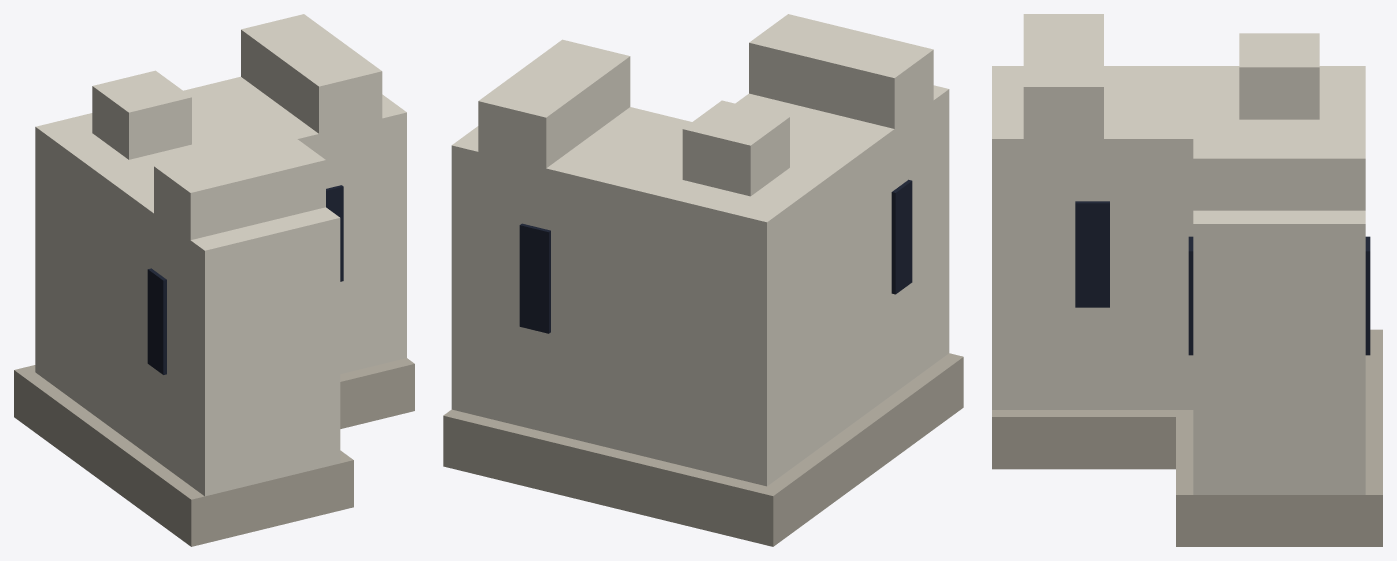
Rendered from FortifiedFence1-lvl1-Corner.fbx.
3 renders of one model, left to right at view 1: azimuth 30°, elevation 25°; view 2: azimuth 150°, elevation 25°; view 3: azimuth 270°, elevation 25°, orthographic. The views are drawn at different scales.
Visible parts, largest first — view 1: FortifiedFence1-lvl1-Corner; view 2: FortifiedFence1-lvl1-Corner; view 3: FortifiedFence1-lvl1-Corner.
Part boxes in pixels (x1,y1,x2,y2): FortifiedFence1-lvl1-Corner: (14,14,414,546); FortifiedFence1-lvl1-Corner: (443,14,963,546); FortifiedFence1-lvl1-Corner: (992,14,1382,546).
Bounding box in the file's own units: 0.68 × 0.72 × 0.68.
